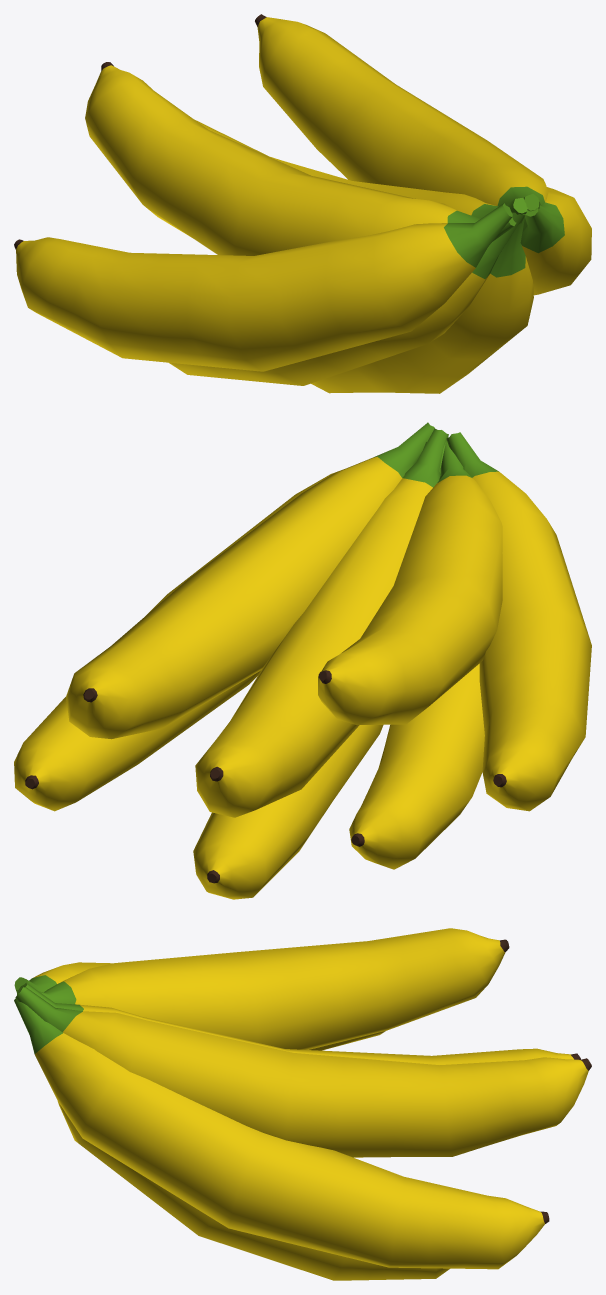
File: Banana_Cluster.fbx
The picture shows the model from 3 angles, top to bottom: view 1: azimuth 30°, elevation 25°; view 2: azimuth 150°, elevation 25°; view 3: azimuth 270°, elevation 25°; orthographic projection. The views are drawn at different scales.
Visible parts, largest first — view 1: SM_Prop_Banana_01.013; view 2: SM_Prop_Banana_01.013; view 3: SM_Prop_Banana_01.013.
Boxes of the visible parts, x1,y1,x2,y2 form: SM_Prop_Banana_01.013: [14, 14, 591, 393]; SM_Prop_Banana_01.013: [14, 422, 591, 899]; SM_Prop_Banana_01.013: [14, 928, 591, 1280].
Bounding box in the file's own units: 168 × 107 × 188.
